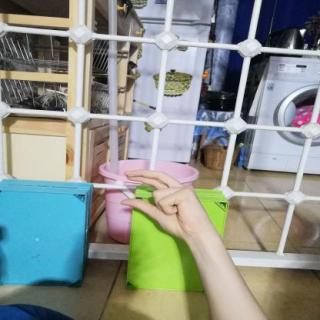DHELL: (112, 164, 215, 244)
